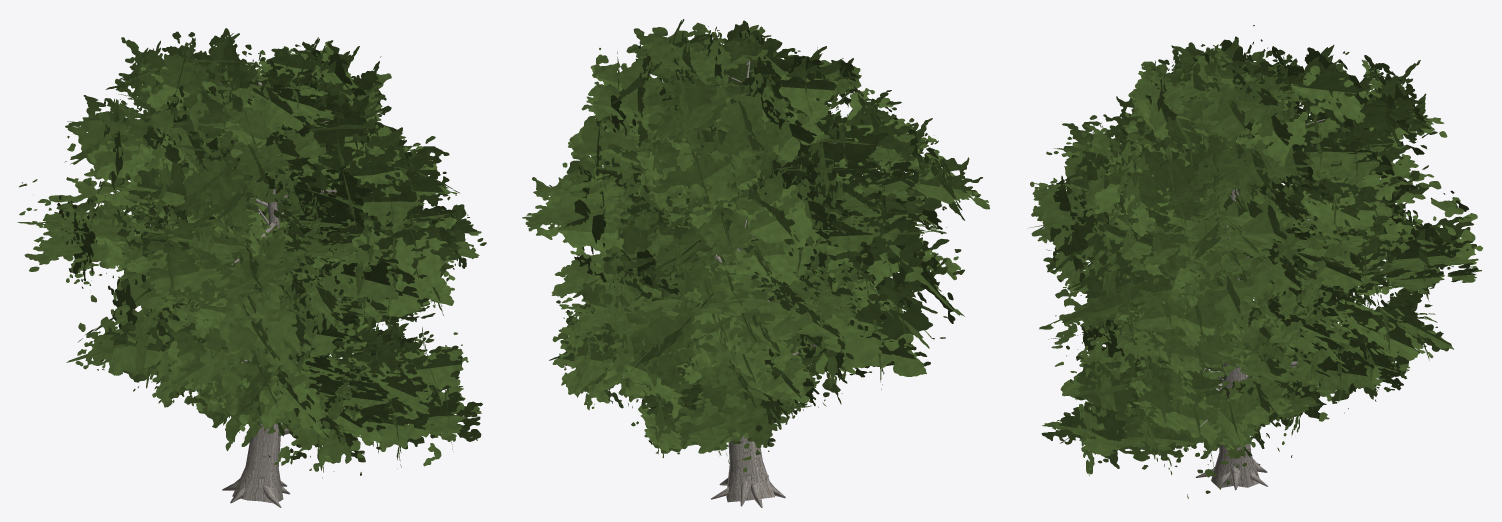
The model's file is LowBranchedWhiteOakLOD0.glb.
3 renders of one model, left to right at view 1: azimuth 30°, elevation 25°; view 2: azimuth 150°, elevation 25°; view 3: azimuth 270°, elevation 25°, orthographic. The views are drawn at different scales.
Parts seen in each view (by area): view 1: Foliage, Bark; view 2: Foliage, Bark; view 3: Foliage, Bark.
Part boxes in pixels (x1=…): Foliage: x1=17, y1=28, x2=486, y2=478; Bark: x1=183, y1=81, x2=360, y2=507; Foliage: x1=522, y1=19, x2=989, y2=474; Bark: x1=622, y1=60, x2=877, y2=507; Foliage: x1=1029, y1=25, x2=1482, y2=498; Bark: x1=1138, y1=96, x2=1381, y2=490.
Size of the model in its own units: 15.76 by 16.85 by 16.56.
2 materials, 2 textured.
